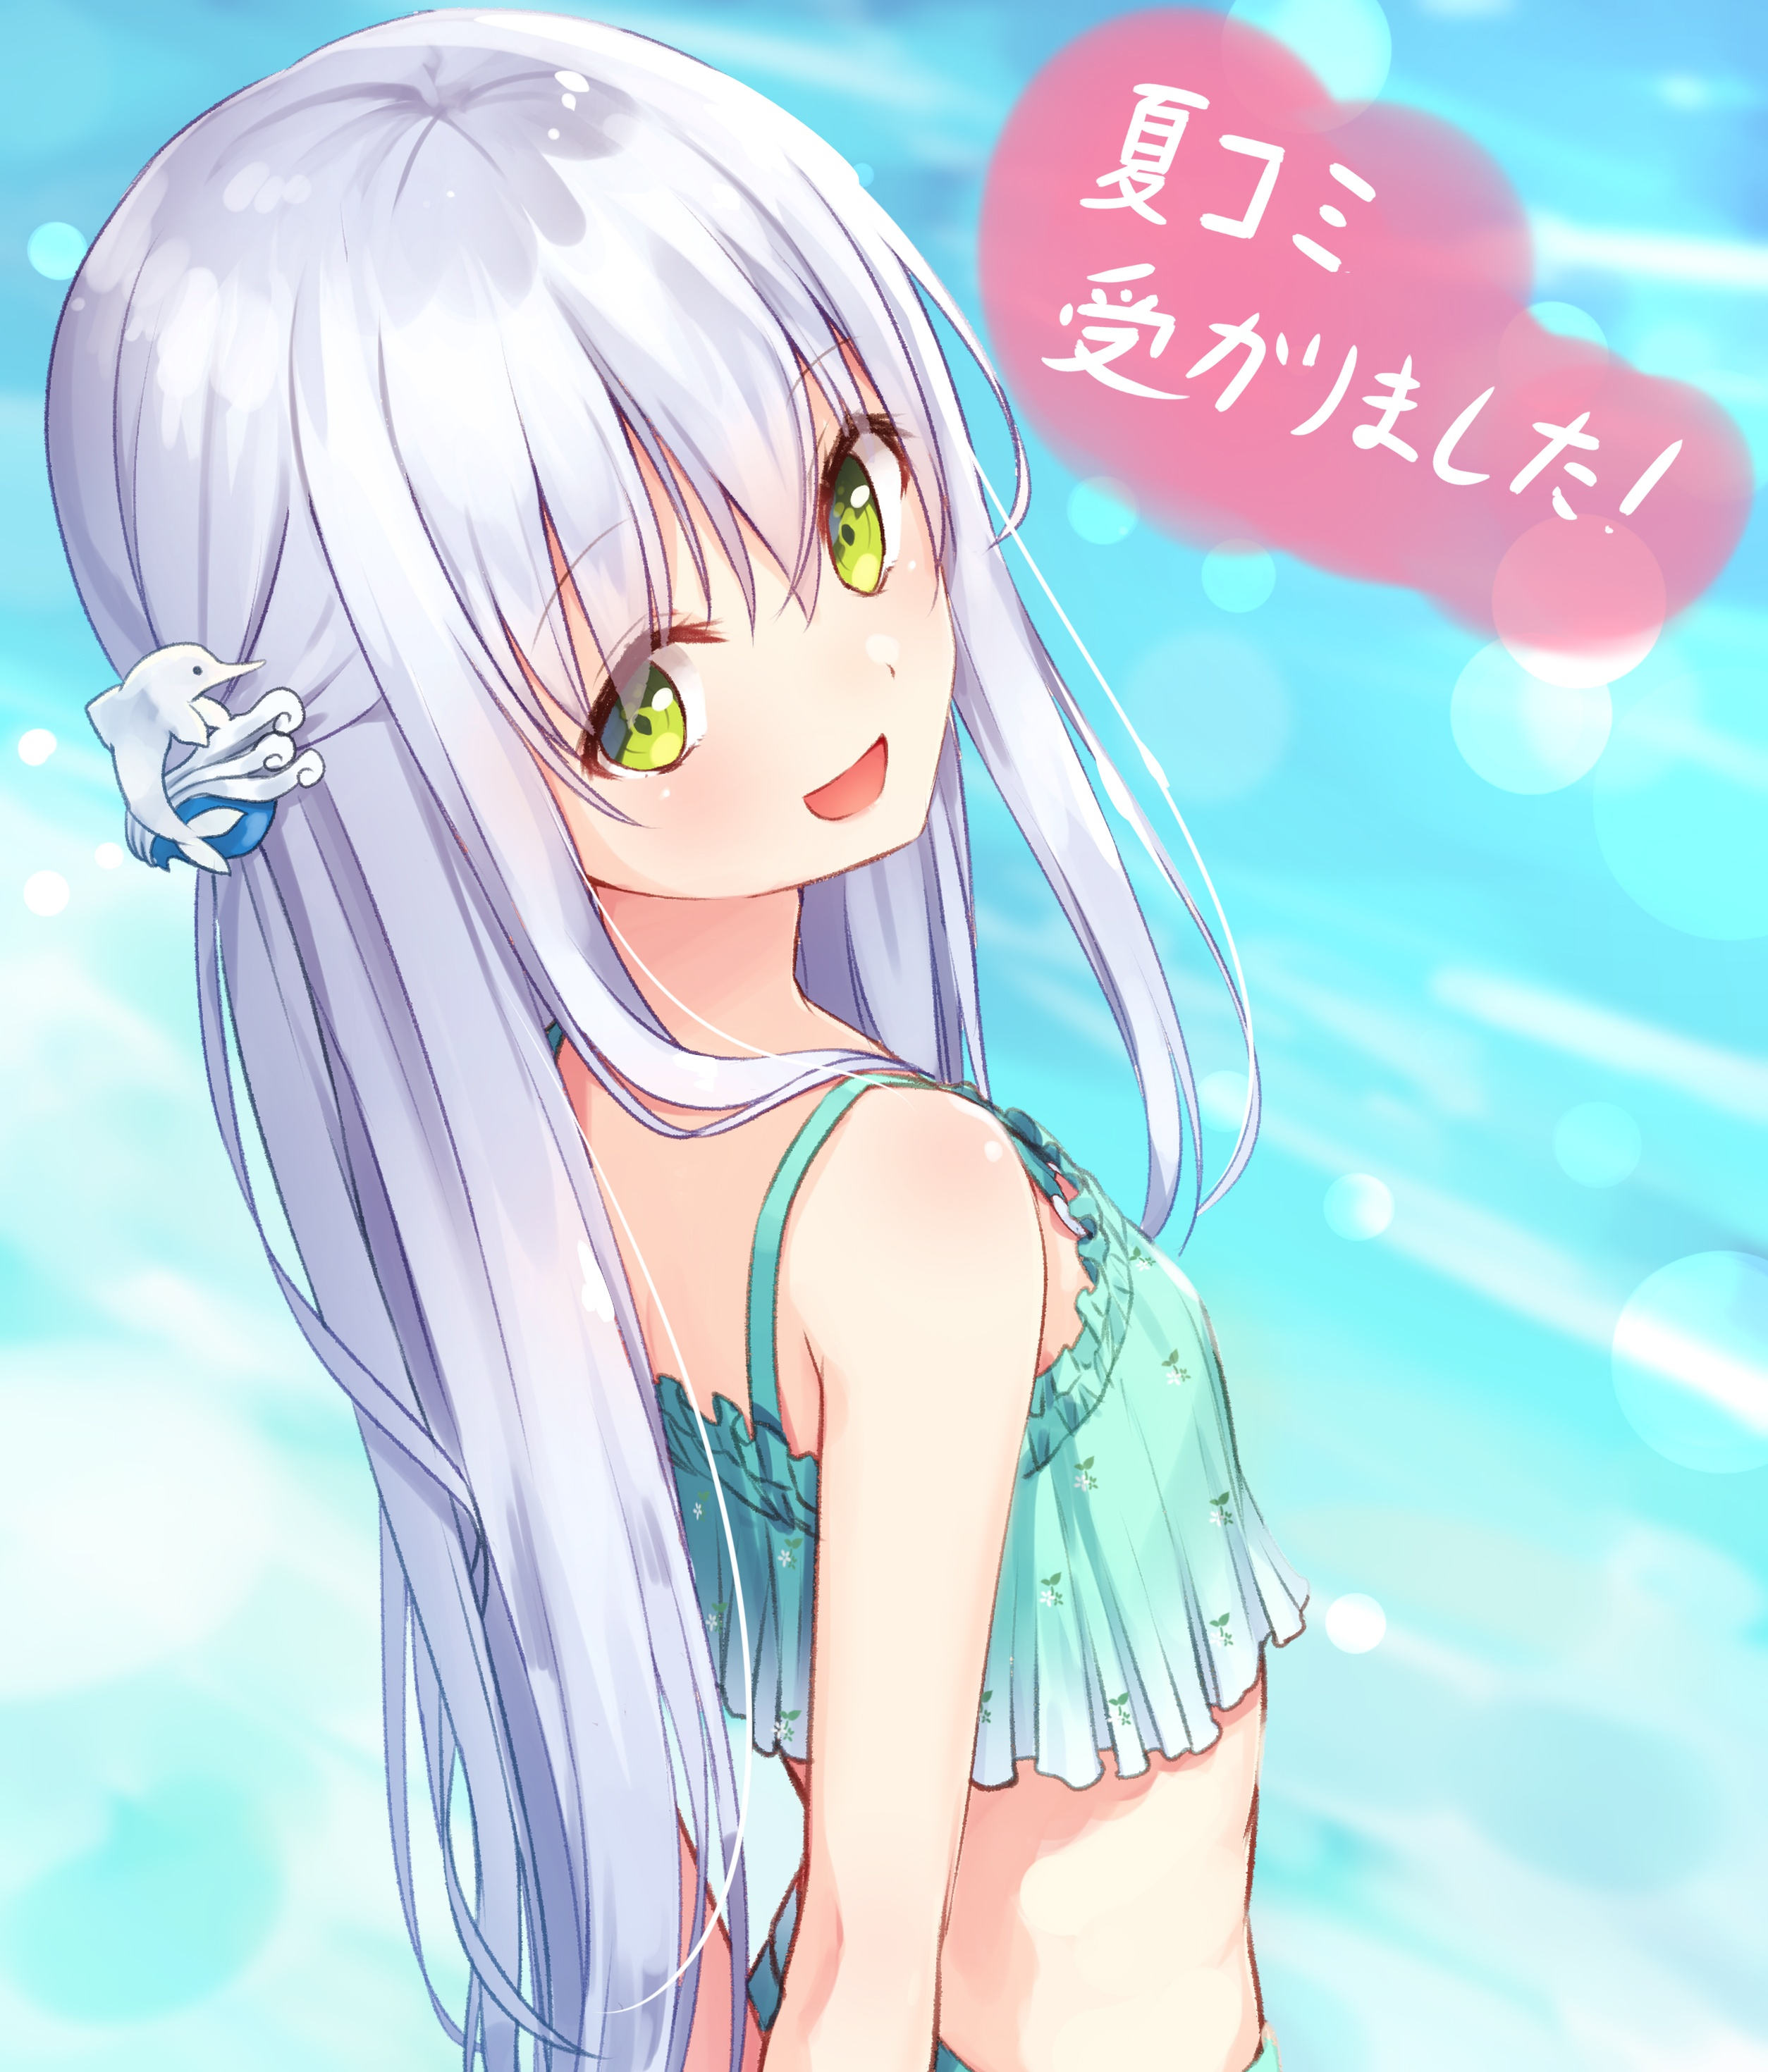纸片人正脸: (63, 16, 982, 934)
